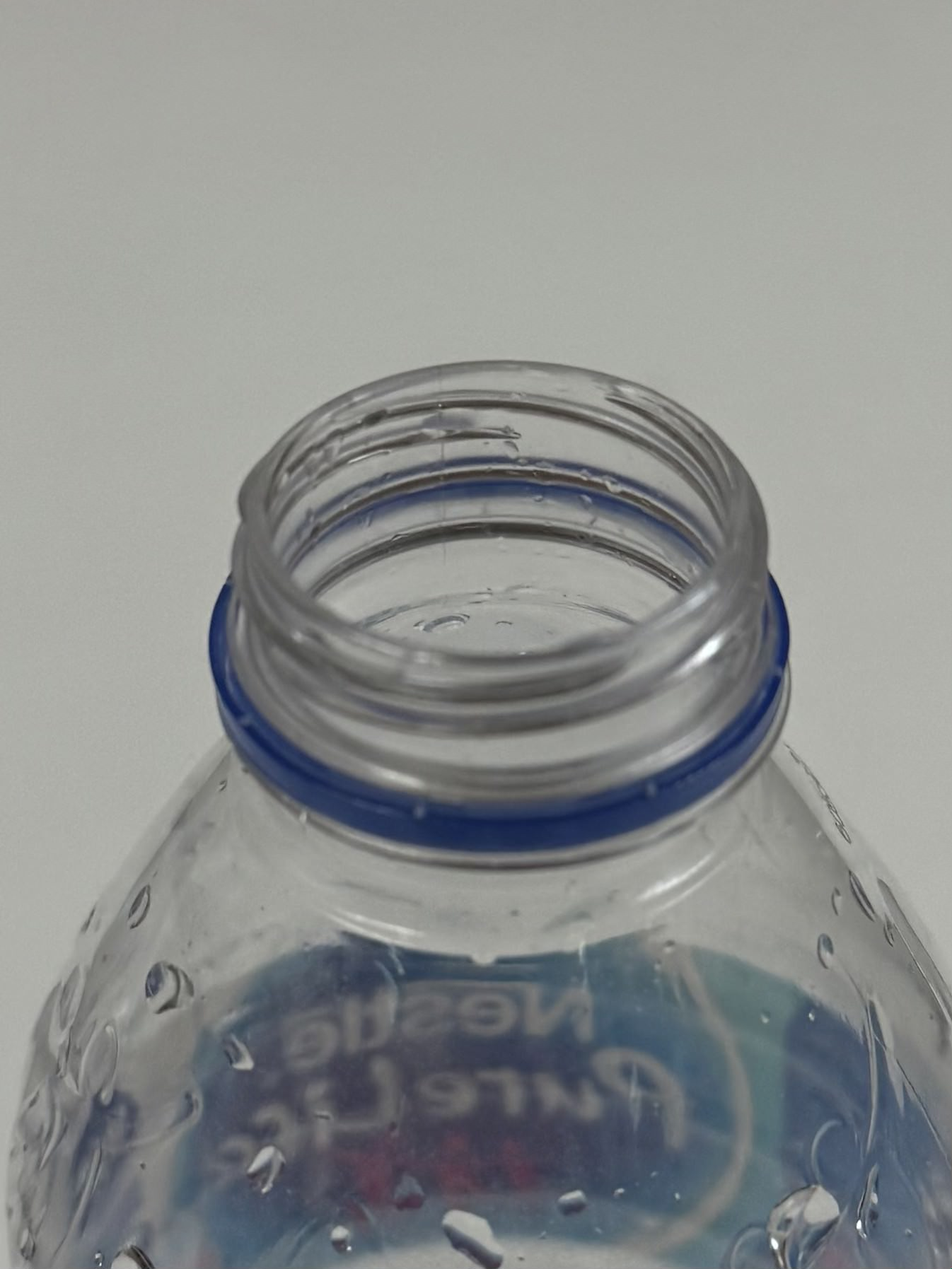no_cap: (202, 353, 804, 875)
